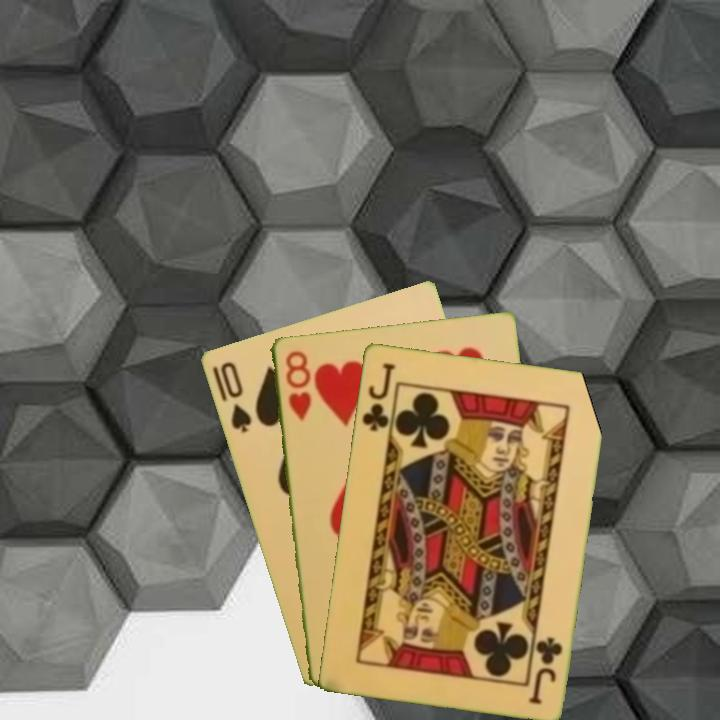10s: (216, 357, 254, 435)
8h: (281, 347, 314, 423)
Jc: (358, 358, 398, 434), (526, 632, 565, 707)
